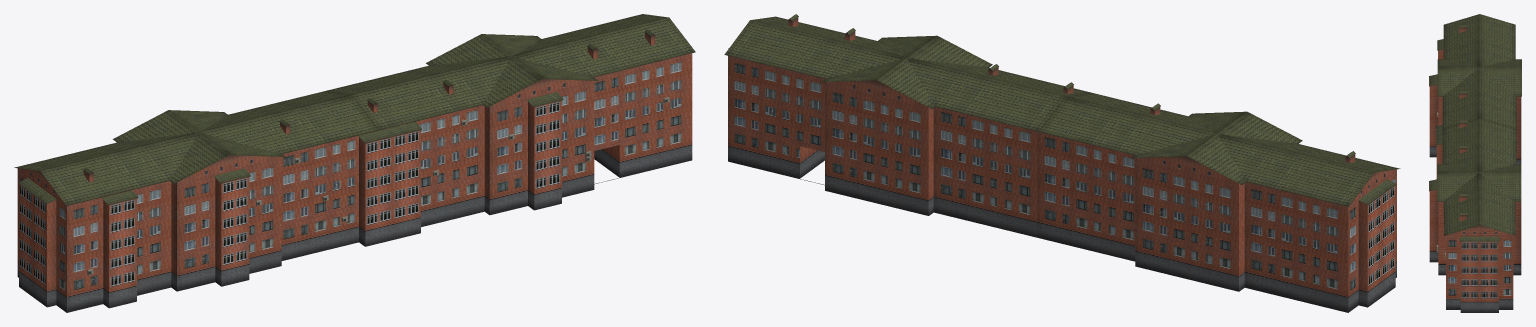
File: largehouse_1.fbx
3 views of the same model, side by side, from view 1: azimuth 30°, elevation 25°; view 2: azimuth 150°, elevation 25°; view 3: azimuth 270°, elevation 25° (orthographic). The views are drawn at different scales.
Parts seen in each view (by area): view 1: c95a14a8-b4c6-4b18-88e3-18bec59ee199; view 2: c95a14a8-b4c6-4b18-88e3-18bec59ee199; view 3: c95a14a8-b4c6-4b18-88e3-18bec59ee199.
Boxes of the visible parts, x1=… form: c95a14a8-b4c6-4b18-88e3-18bec59ee199: x1=14, y1=14, x2=695, y2=312; c95a14a8-b4c6-4b18-88e3-18bec59ee199: x1=724, y1=14, x2=1400, y2=312; c95a14a8-b4c6-4b18-88e3-18bec59ee199: x1=1429, y1=14, x2=1521, y2=312.
Bounding box in the file's own units: 86.73 × 16.29 × 15.71.
Materials: 1 (1 with a texture image).
